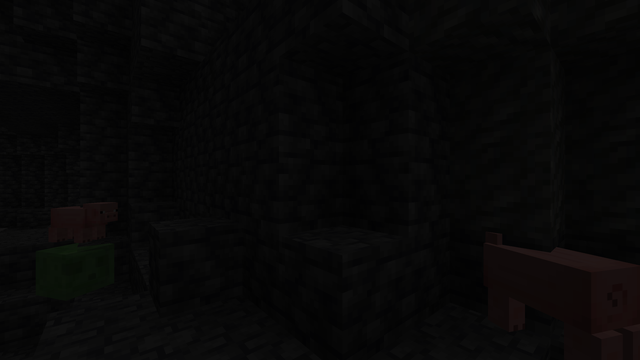cochons: (485, 239, 618, 359), (53, 204, 101, 240)
slimes: (41, 238, 104, 302)
